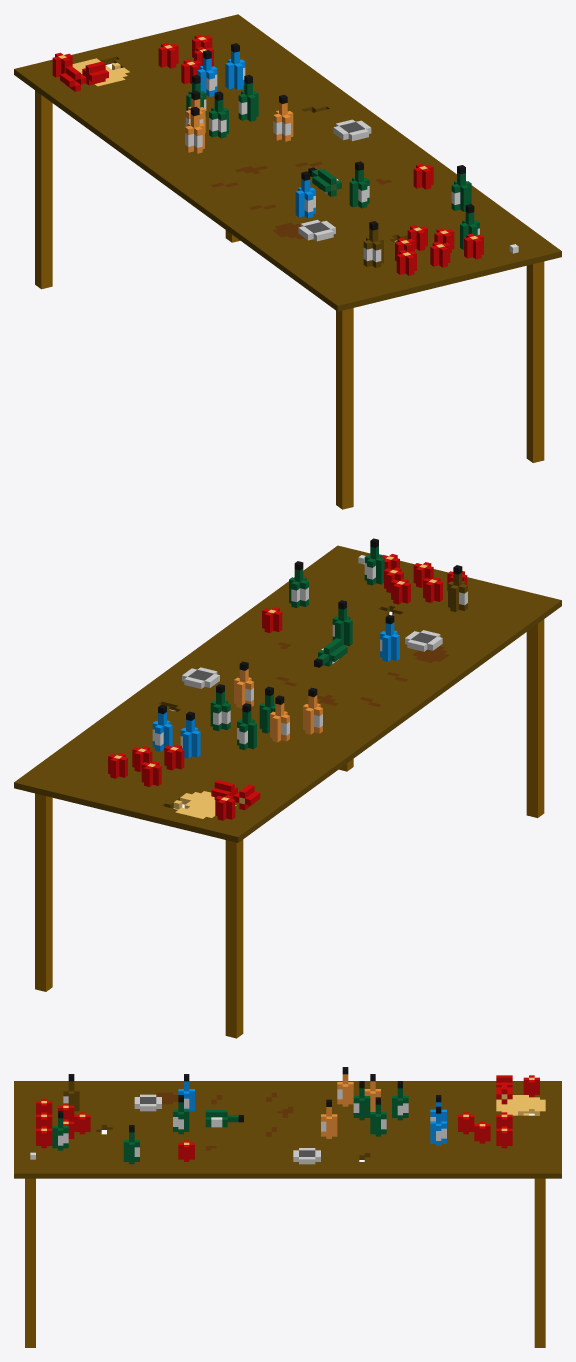
The model's file is table_deco2.obj.
3 views of the same model, one above another, from view 1: azimuth 30°, elevation 25°; view 2: azimuth 150°, elevation 25°; view 3: azimuth 270°, elevation 25° (orthographic). The views are drawn at different scales.
Visible parts, largest first — view 1: table_deco2; view 2: table_deco2; view 3: table_deco2.
Boxes of the visible parts, bbox=[...] form: table_deco2: bbox=[14, 14, 561, 509]; table_deco2: bbox=[14, 538, 561, 1038]; table_deco2: bbox=[14, 1067, 561, 1347].
Bounding box in the file's own units: 40 × 43 × 100.
1 material, 1 textured.
